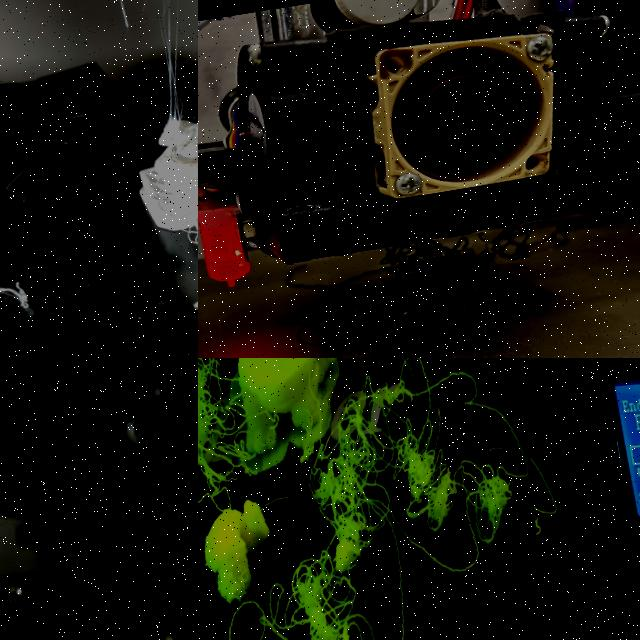spaghetti: (198, 358, 538, 640), (297, 241, 492, 347), (479, 220, 558, 266), (0, 253, 45, 327)
